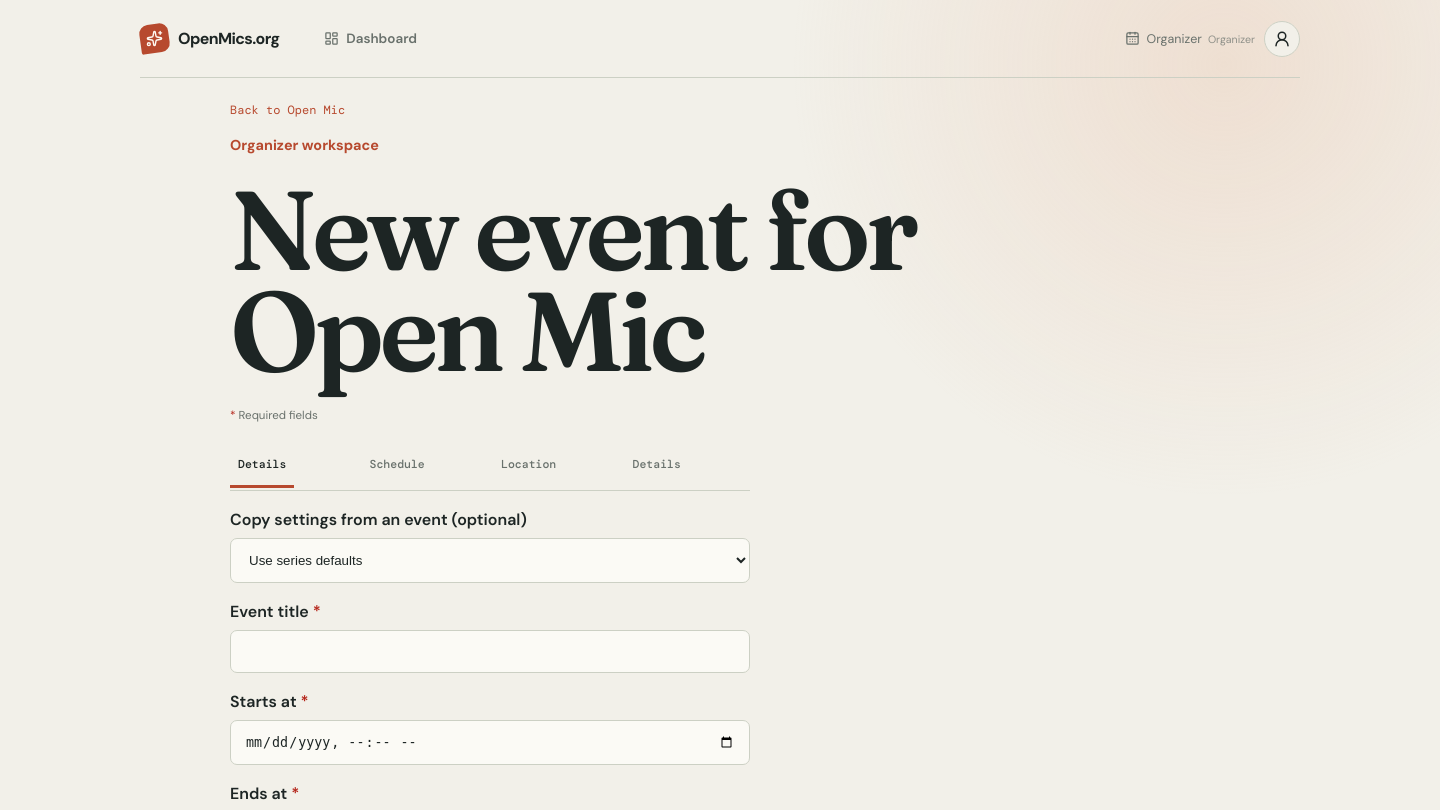
Test: event copy creation › copies editable details but resets publication and registration state
Select "Show source-1 — Oct 10, 2026, 7:00 PM · The Lantern, Dublin · Published" in the dropdown labelled "Copy settings from an event (optional)" at [490, 560], box [230,538,750,582]
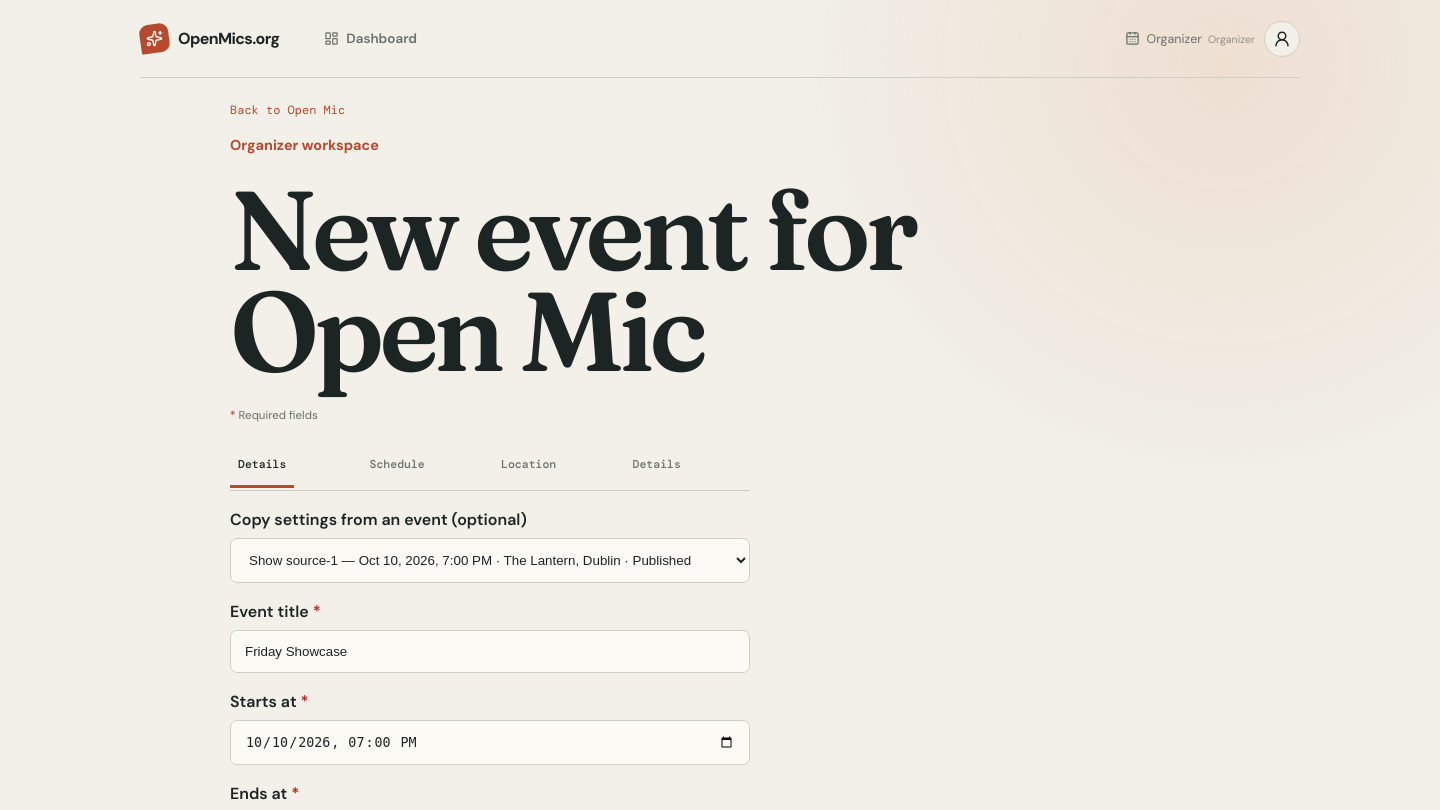
Check: the field showing "Friday Showcase" is shown, box [230,630,750,672]
Check: the field labelled "Starts at *" holds "2026-10-10T19:00", box [230,720,750,765]
